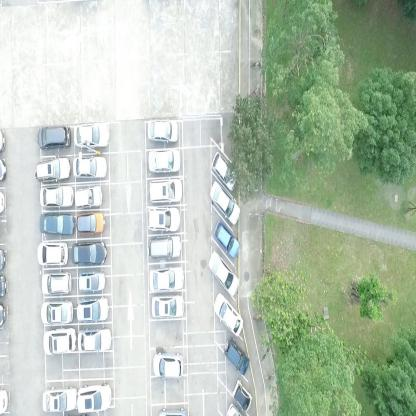car: (206, 248, 240, 296), (208, 180, 241, 226), (211, 291, 243, 336), (76, 381, 112, 415), (210, 148, 237, 190), (213, 217, 239, 259), (224, 336, 250, 376), (148, 265, 184, 292), (42, 385, 78, 412), (146, 148, 182, 174), (34, 157, 70, 183), (152, 350, 184, 379), (43, 327, 75, 356), (147, 233, 182, 259), (36, 124, 71, 150), (71, 240, 107, 265), (147, 204, 181, 230), (74, 123, 108, 149), (39, 298, 73, 324), (77, 327, 112, 352), (72, 155, 108, 179), (150, 293, 183, 319), (146, 117, 178, 143), (77, 297, 110, 322), (39, 184, 73, 208), (37, 241, 68, 267), (40, 271, 73, 295), (148, 179, 182, 201), (75, 211, 106, 235), (74, 184, 103, 209), (40, 213, 75, 233), (76, 271, 106, 294), (232, 377, 252, 411), (158, 407, 188, 415)
